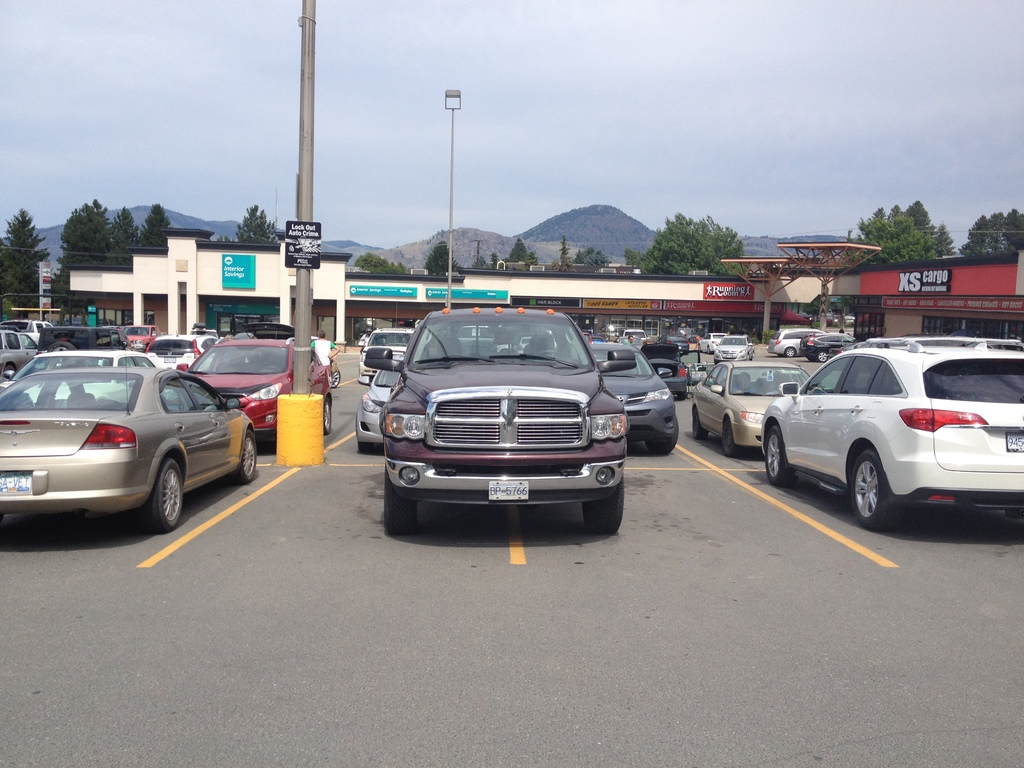Car: (360, 304, 1023, 533), (0, 316, 331, 537)
